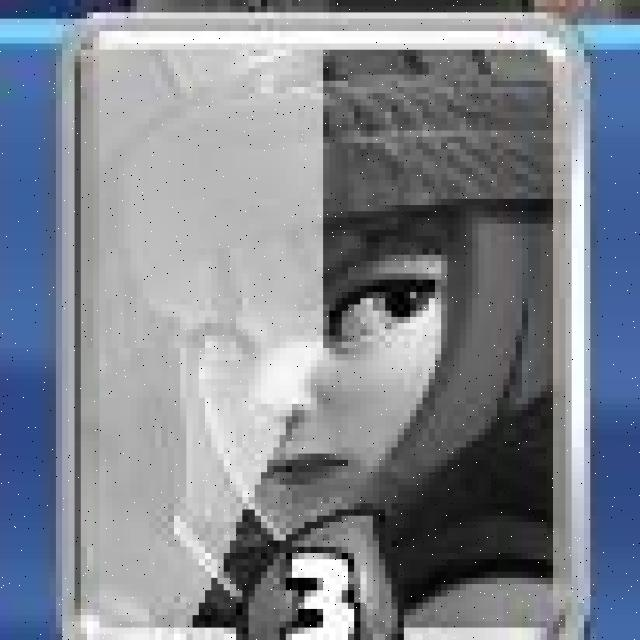Firecracker: (55, 15, 595, 640)
